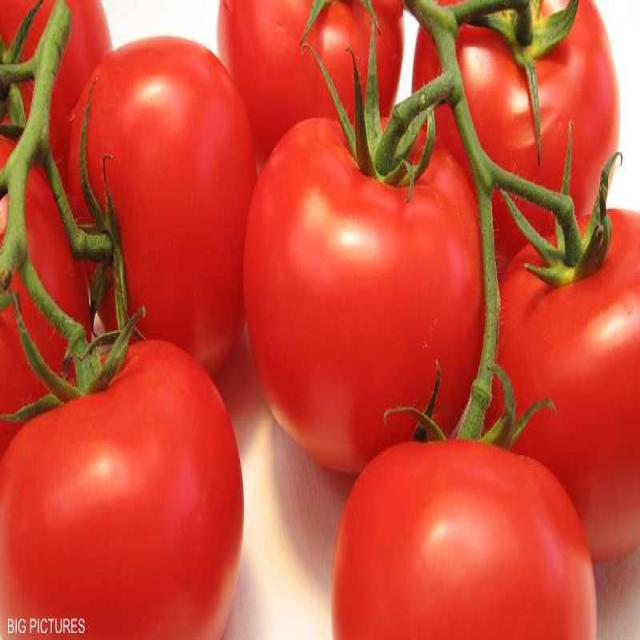kirmizi: (12, 12, 606, 640)
